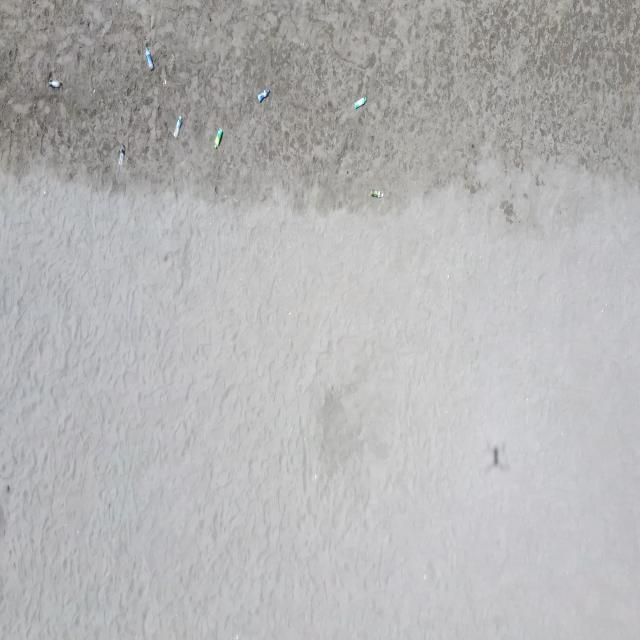plastic-bottle: (174, 115, 184, 139), (256, 88, 271, 104), (145, 44, 154, 70), (353, 96, 368, 111), (215, 126, 224, 150), (368, 188, 385, 199), (48, 77, 62, 90), (118, 146, 125, 166)
